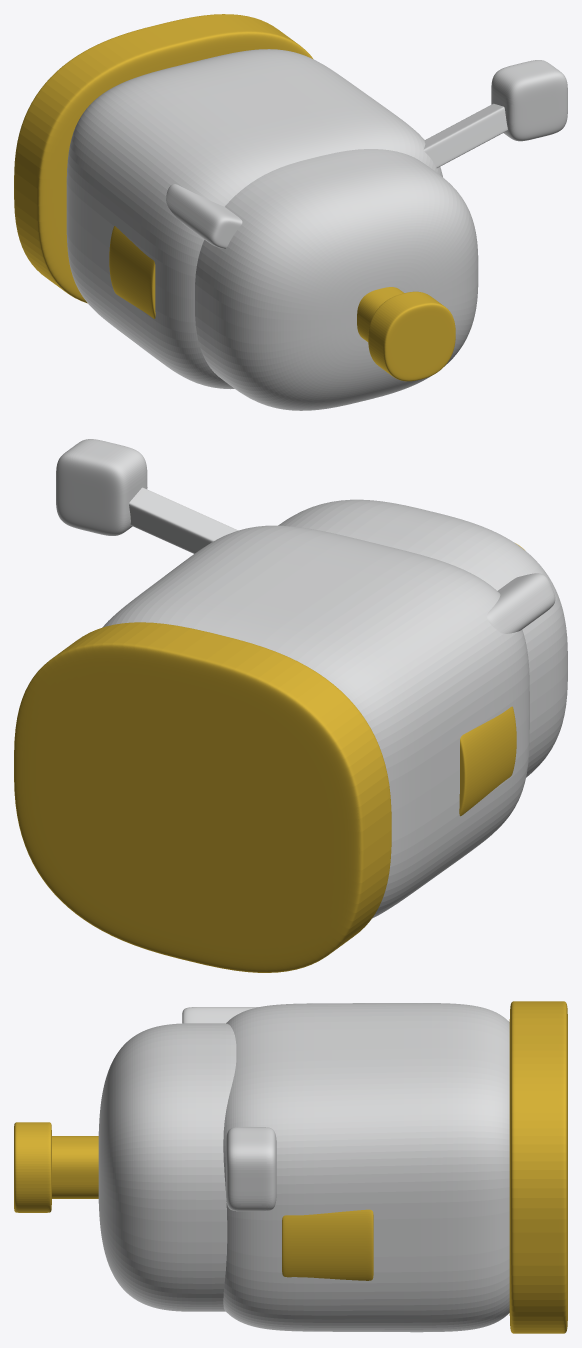
Rendered from vintage_diving_helmet_sq.glb.
The picture shows the model from 3 angles, top to bottom: view 1: azimuth 30°, elevation 25°; view 2: azimuth 150°, elevation 25°; view 3: azimuth 270°, elevation 25°; orthographic projection. The views are drawn at different scales.
Parts seen in each view (by area): view 1: superquadric_1, superquadric_0, superquadric_2, superquadric_7, superquadric_9, superquadric_4, superquadric_8, superquadric_10, superquadric_6; view 2: superquadric_2, superquadric_0, superquadric_1, superquadric_9, superquadric_4, superquadric_8, superquadric_10; view 3: superquadric_0, superquadric_1, superquadric_2, superquadric_5, superquadric_9, superquadric_7, superquadric_6, superquadric_10.
Boxes of the visible parts, <box> form: superquadric_1: <box>195,149,478,410</box>; superquadric_0: <box>66,49,442,389</box>; superquadric_2: <box>14,14,312,303</box>; superquadric_7: <box>368,291,455,381</box>; superquadric_9: <box>491,60,567,141</box>; superquadric_4: <box>109,226,155,318</box>; superquadric_8: <box>423,103,507,167</box>; superquadric_10: <box>166,184,242,248</box>; superquadric_6: <box>357,287,404,341</box>; superquadric_2: <box>14,622,391,972</box>; superquadric_0: <box>102,525,529,918</box>; superquadric_1: <box>278,499,567,777</box>; superquadric_9: <box>56,439,147,535</box>; superquadric_4: <box>459,706,516,816</box>; superquadric_8: <box>129,487,237,553</box>; superquadric_10: <box>486,573,555,633</box>; superquadric_0: <box>223,1003,509,1332</box>; superquadric_1: <box>98,1023,236,1311</box>; superquadric_2: <box>509,1001,567,1333</box>; superquadric_5: <box>282,1209,373,1280</box>; superquadric_9: <box>226,1127,276,1211</box>; superquadric_7: <box>14,1122,51,1212</box>; superquadric_6: <box>52,1136,98,1198</box>; superquadric_10: <box>182,1007,258,1023</box>.
Bounding box in the file's own units: 0.8738 × 0.5782 × 1.
